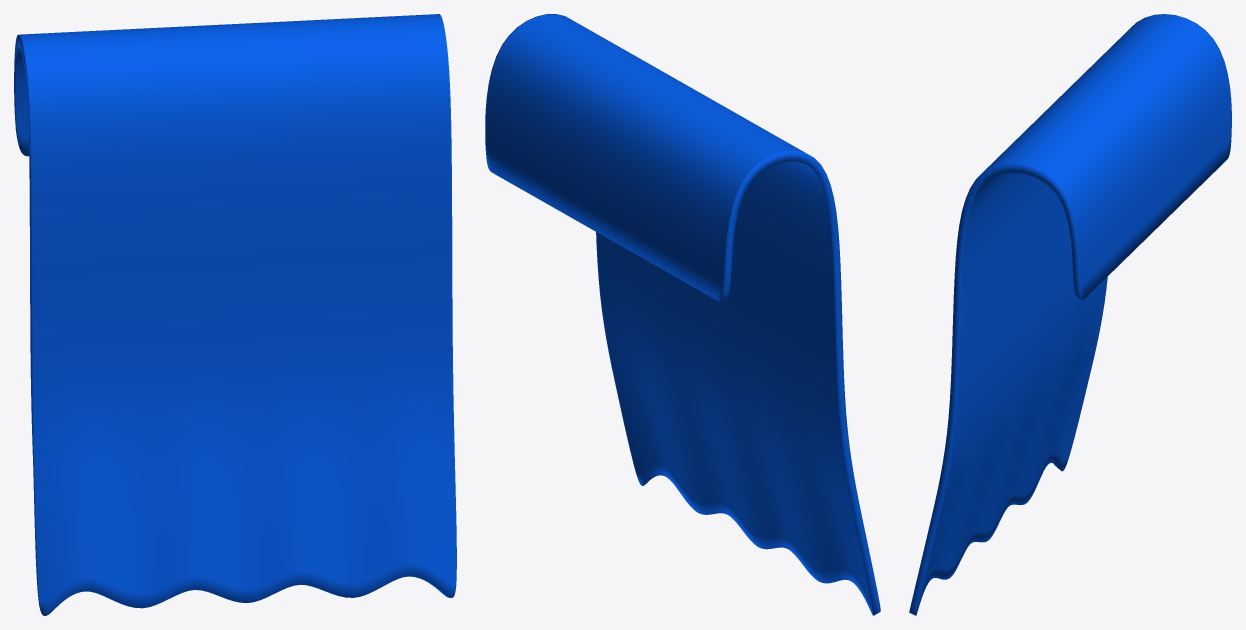
The model's file is receipt-3d-animated-icon-556148218032.glb.
The picture shows the model from 3 angles, left to right: view 1: azimuth 30°, elevation 25°; view 2: azimuth 150°, elevation 25°; view 3: azimuth 270°, elevation 25°; orthographic projection. The views are drawn at different scales.
Parts seen in each view (by area): view 1: Plane.002; view 2: Plane.002; view 3: Plane.002.
Boxes of the visible parts, x1,y1,x2,y2 form: Plane.002: [14, 14, 456, 615]; Plane.002: [485, 14, 880, 615]; Plane.002: [909, 14, 1231, 615].
Size of what is drawn, in the model's own units: 2.93 by 3.61 by 2.23.
